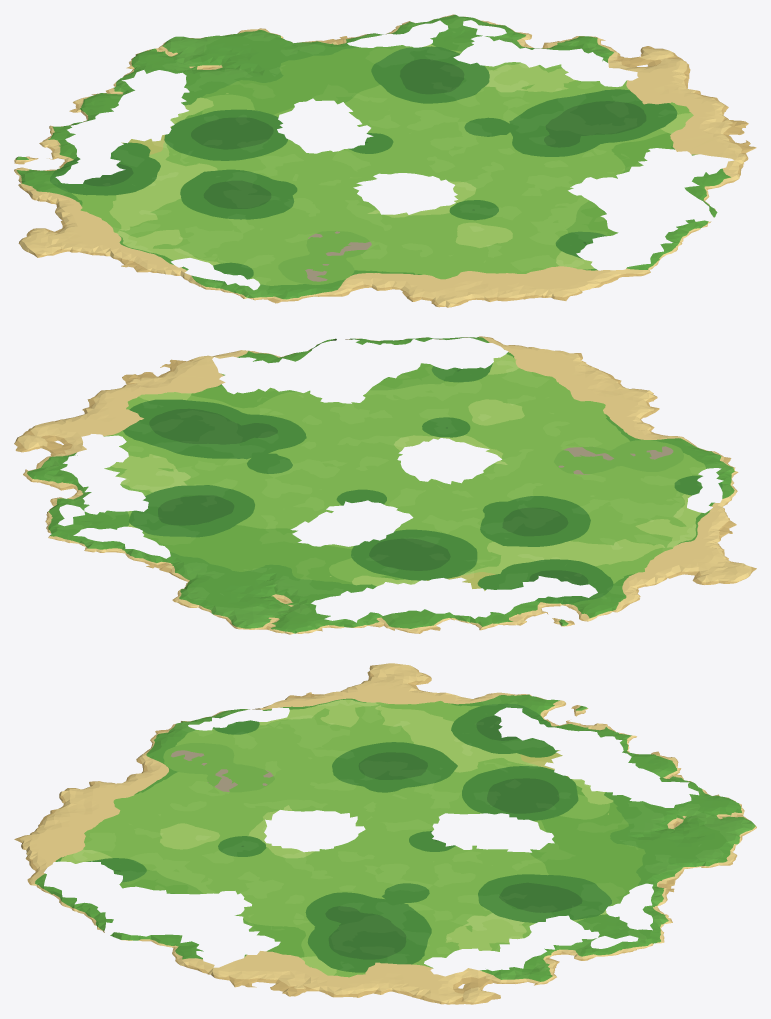
The model's file is Isl-flat6-Ground.fbx.
3 renders of one model, top to bottom at view 1: azimuth 30°, elevation 25°; view 2: azimuth 150°, elevation 25°; view 3: azimuth 270°, elevation 25°, orthographic.
Parts seen in each view (by area): view 1: Isl-flat6-Ground-c11, Isl-flat6-Ground-c21, Isl-flat6-Ground-c22, Isl-flat6-Ground-c12; view 2: Isl-flat6-Ground-c11, Isl-flat6-Ground-c22, Isl-flat6-Ground-c12, Isl-flat6-Ground-c21; view 3: Isl-flat6-Ground-c11, Isl-flat6-Ground-c21, Isl-flat6-Ground-c22, Isl-flat6-Ground-c12.
Boxes of the visible parts, x1=… form: Isl-flat6-Ground-c11: x1=33, y1=160, x2=565, y2=307; Isl-flat6-Ground-c21: x1=378, y1=86, x2=756, y2=300; Isl-flat6-Ground-c22: x1=208, y1=14, x2=690, y2=159; Isl-flat6-Ground-c12: x1=14, y1=36, x2=377, y2=242; Isl-flat6-Ground-c11: x1=392, y1=353, x2=743, y2=572; Isl-flat6-Ground-c22: x1=14, y1=413, x2=391, y2=617; Isl-flat6-Ground-c12: x1=219, y1=488, x2=735, y2=634; Isl-flat6-Ground-c21: x1=82, y1=336, x2=580, y2=487; Isl-flat6-Ground-c11: x1=15, y1=666, x2=396, y2=838; Isl-flat6-Ground-c21: x1=14, y1=835, x2=396, y2=997; Isl-flat6-Ground-c22: x1=392, y1=835, x2=741, y2=1004; Isl-flat6-Ground-c12: x1=392, y1=666, x2=756, y2=839.
Size of the model in its own units: 106 by 0.4898 by 98.05.
